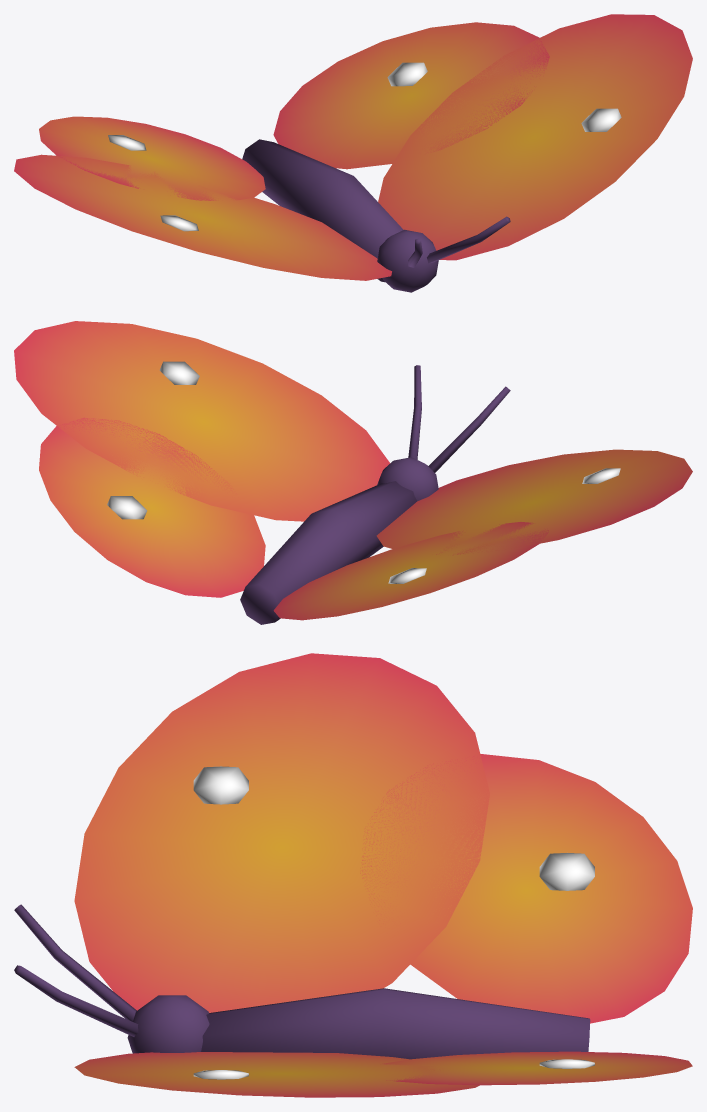
The model's file is butterfly.glb.
3 views of the same model, one above another, from view 1: azimuth 30°, elevation 25°; view 2: azimuth 150°, elevation 25°; view 3: azimuth 270°, elevation 25° (orthographic). The views are drawn at different scales.
Parts seen in each view (by area): view 1: wingR, wingL, body, head, ant.001, dot.001, dot; view 2: wingR, wingL, body, head, ant, ant.001, dot.001, dot; view 3: wingL, wingR, body, head, ant, dot.002, dot.003, ant.001.
Boxes of the visible parts, x1,y1,x2,y2 form: wingR: (273, 14, 692, 260); wingL: (14, 116, 391, 280); body: (242, 139, 403, 282); head: (377, 229, 438, 292); ant.001: (427, 216, 510, 263); dot.001: (387, 62, 427, 86); dot: (581, 108, 621, 131); wingR: (14, 321, 390, 597); wingL: (273, 449, 692, 620); body: (240, 481, 417, 624); head: (377, 457, 438, 500); ant: (428, 386, 510, 472); ant.001: (408, 365, 421, 459); dot.001: (107, 496, 147, 519); dot: (159, 361, 199, 384); wingL: (74, 653, 692, 1023); wingR: (74, 1051, 692, 1097); body: (201, 988, 590, 1059); head: (127, 995, 209, 1053); ant: (14, 904, 136, 1021); dot.002: (193, 766, 248, 804); dot.003: (539, 852, 594, 890); ant.001: (14, 965, 138, 1036).
Bounding box in the file's own units: 0.2583 × 0.056 × 0.1668.
